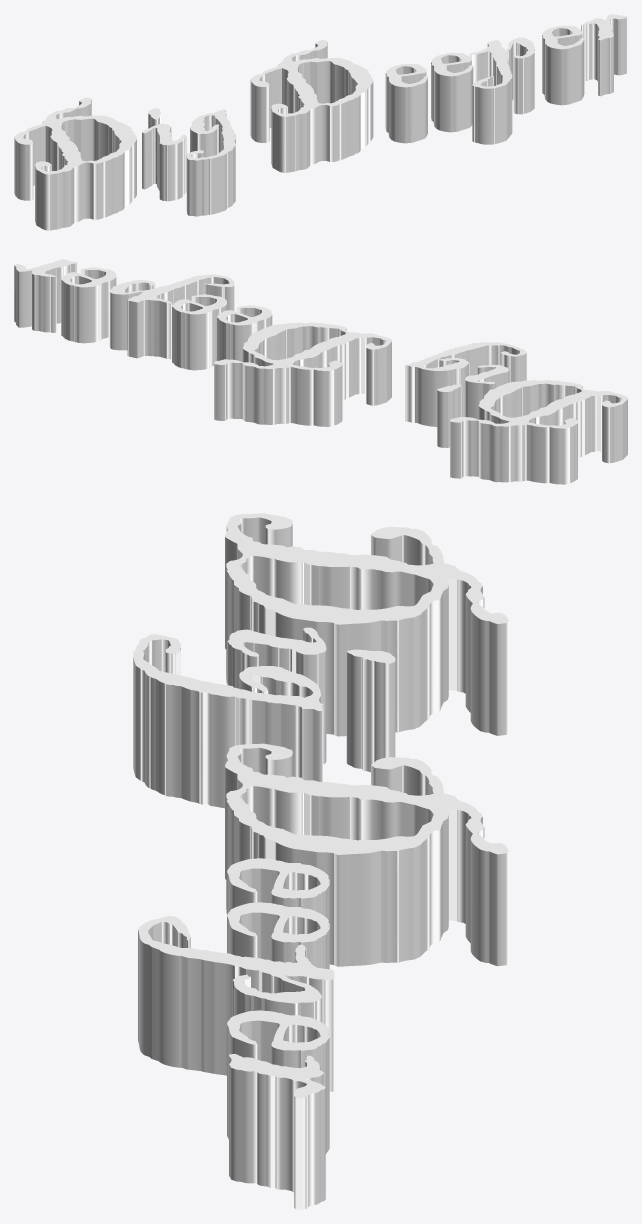
The model's file is Title.001.fbx.
3 renders of one model, top to bottom at view 1: azimuth 30°, elevation 25°; view 2: azimuth 150°, elevation 25°; view 3: azimuth 270°, elevation 25°, orthographic. The views are drawn at different scales.
Parts seen in each view (by area): view 1: Title; view 2: Title; view 3: Title.
Part boxes in pixels (x1,y1,x2,y2): Title: [14, 14, 627, 230]; Title: [14, 259, 627, 484]; Title: [133, 513, 508, 1209].
Bounding box in the file's own units: 3.14 × 0.28 × 0.8519.
